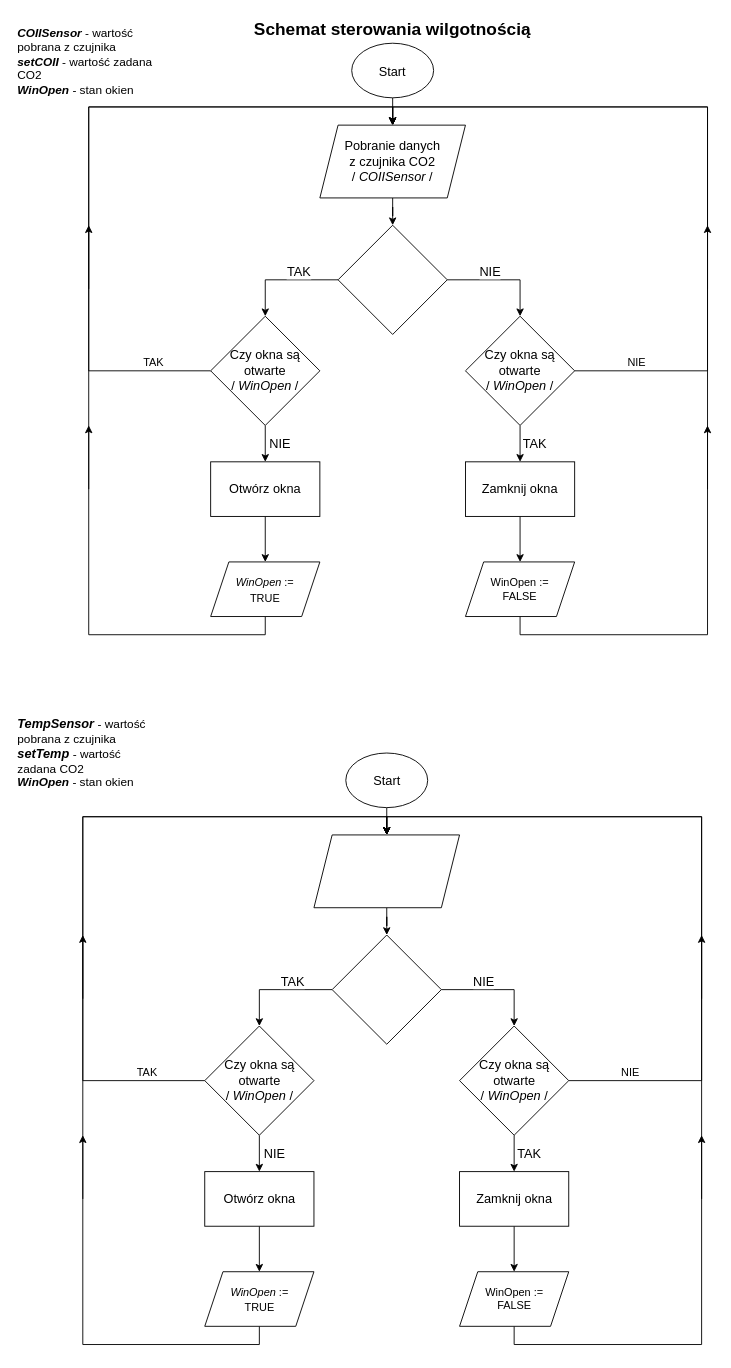
The diagram is 731 pixels wide and 1368 high, and some of its shapes have lost their labels. The shapes that lost their labels are listed below. From the top down, each one's centre as x and y in pixels, then its label:
the point at 392,279: COIISensor > setCOII
the point at 386,871: Pobranie danych z czujnika temperatury / TempSensor /
the point at 386,989: TempSensor > setTemp
